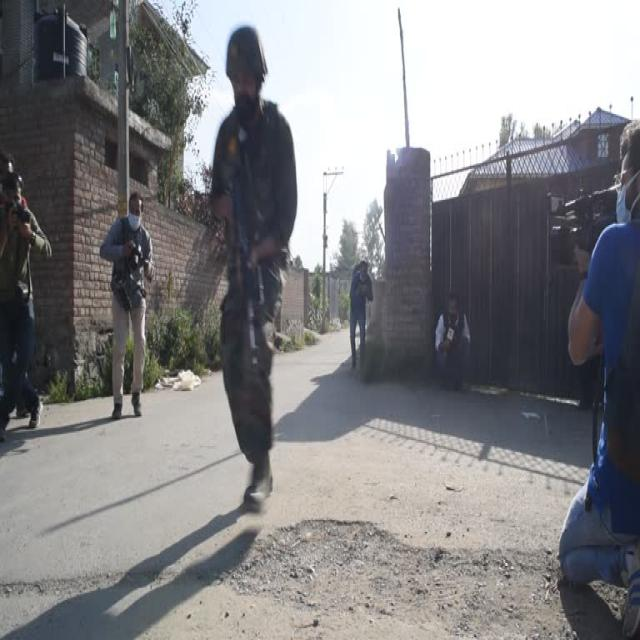Militant: (176, 4, 312, 530), (2, 146, 64, 431), (107, 171, 163, 444), (420, 271, 483, 450), (341, 248, 390, 408)
